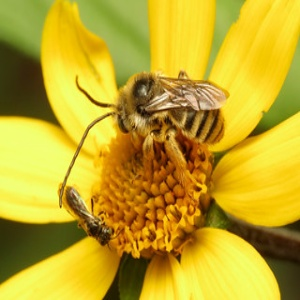bee: (91, 70, 225, 162)
